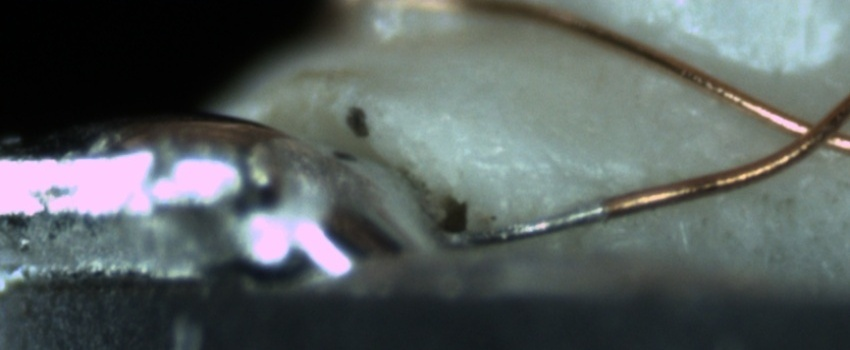CL: (766, 98, 848, 161)
DL: (471, 143, 660, 189)
TS: (445, 205, 606, 246)
TTCW: (451, 191, 661, 247)
